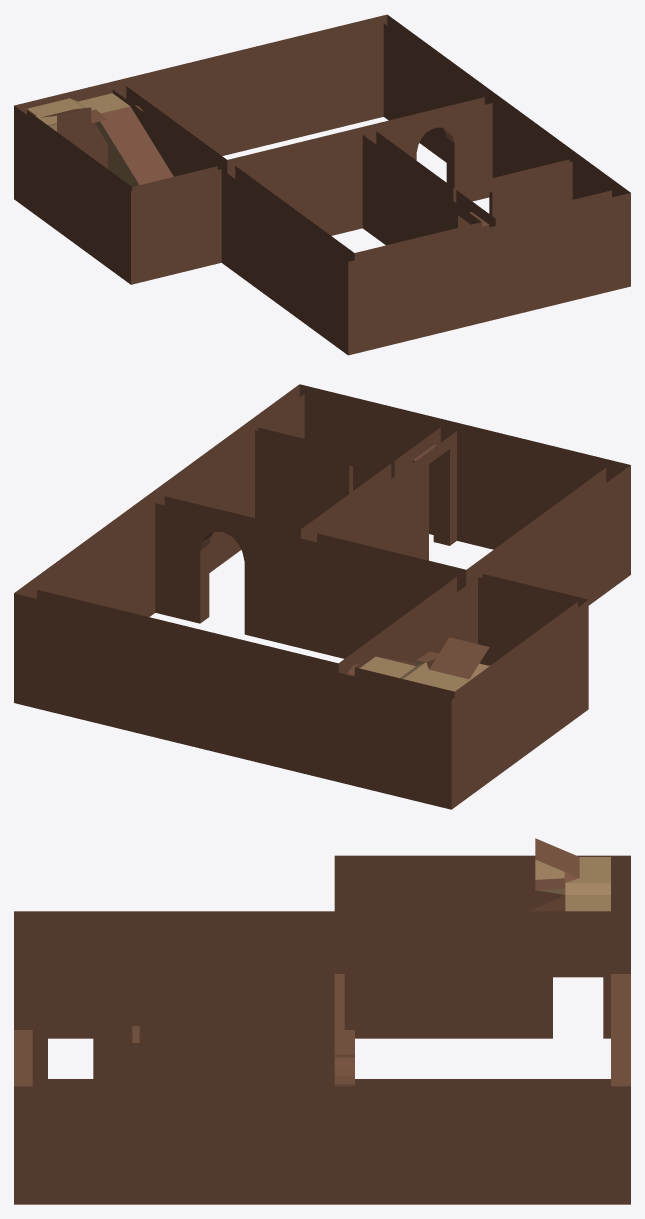
The model's file is Manor_Structure_F-1_collider.fbx.
The picture shows the model from 3 angles, top to bottom: view 1: azimuth 30°, elevation 25°; view 2: azimuth 150°, elevation 25°; view 3: azimuth 270°, elevation 25°; orthographic projection. The views are drawn at different scales.
Visible parts, largest first — view 1: Walls_F-1_collider; view 2: Walls_F-1_collider; view 3: Walls_F-1_collider.
Part boxes in pixels (left/top/right/bottom): Walls_F-1_collider: left=14, top=14, right=630, bottom=355; Walls_F-1_collider: left=14, top=384, right=630, bottom=809; Walls_F-1_collider: left=14, top=838, right=630, bottom=1204.
Bounding box in the file's own units: 10.84 × 3.05 × 12.26.
